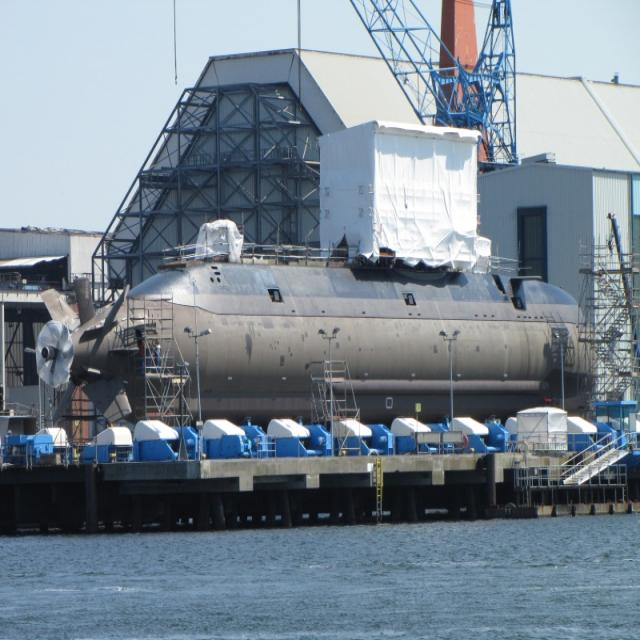submarine: (44, 114, 605, 414)
